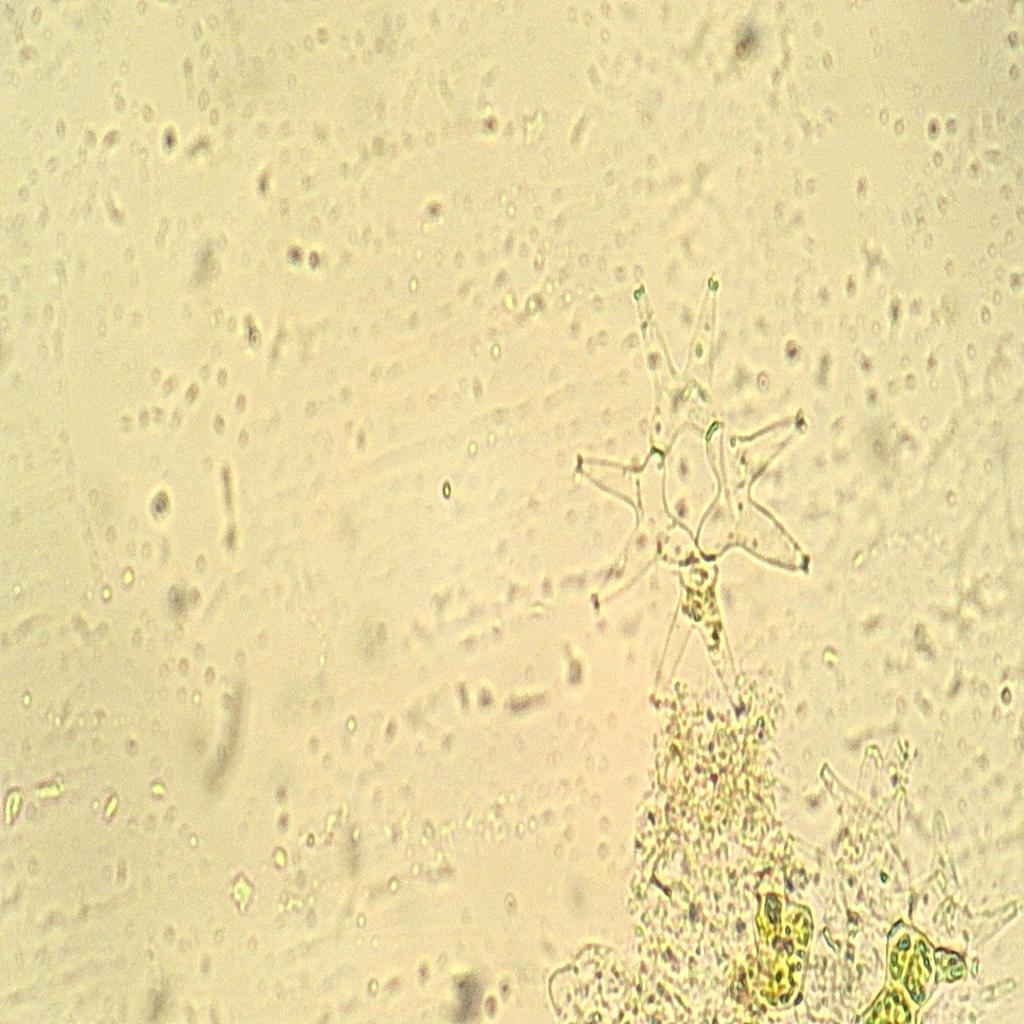Pediastrum_75TH: (561, 254, 824, 752)
